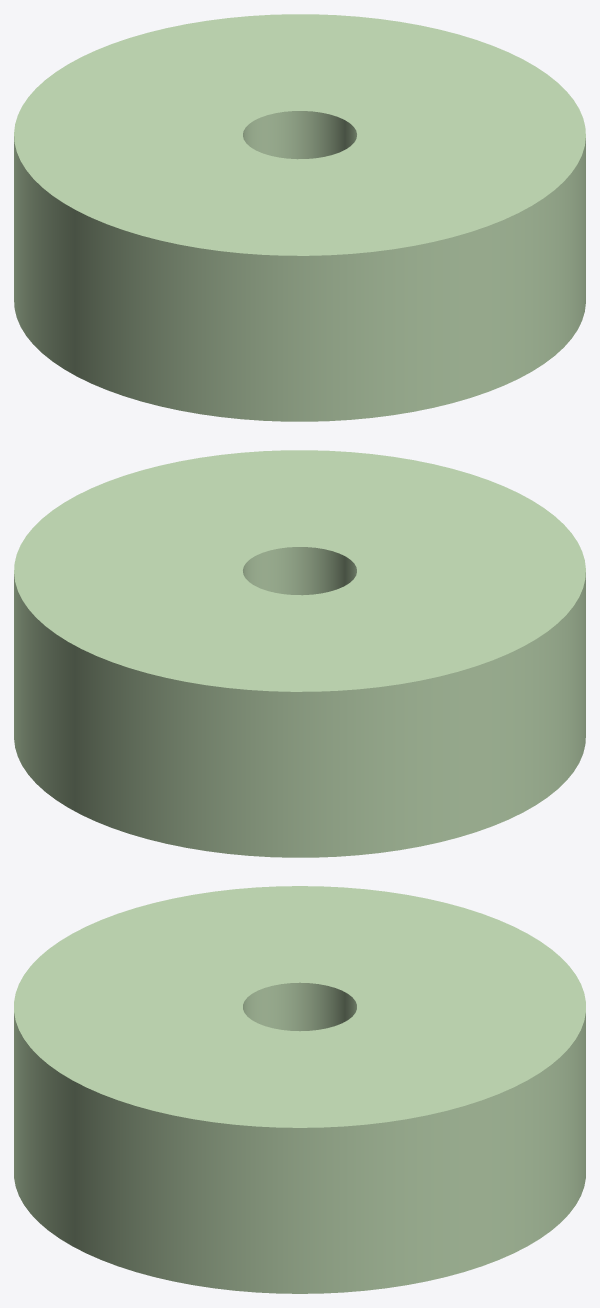
The model's file is Disk6.dae.
3 views of the same model, one above another, from view 1: azimuth 30°, elevation 25°; view 2: azimuth 150°, elevation 25°; view 3: azimuth 270°, elevation 25° (orthographic).
Visible parts, largest first — view 1: ID2; view 2: ID2; view 3: ID2.
Part boxes in pixels (<box>): ID2: <box>14,14,585,421</box>; ID2: <box>14,450,585,857</box>; ID2: <box>14,886,585,1293</box>.
Size of the model in its own units: 0.025 by 0.025 by 0.008.
